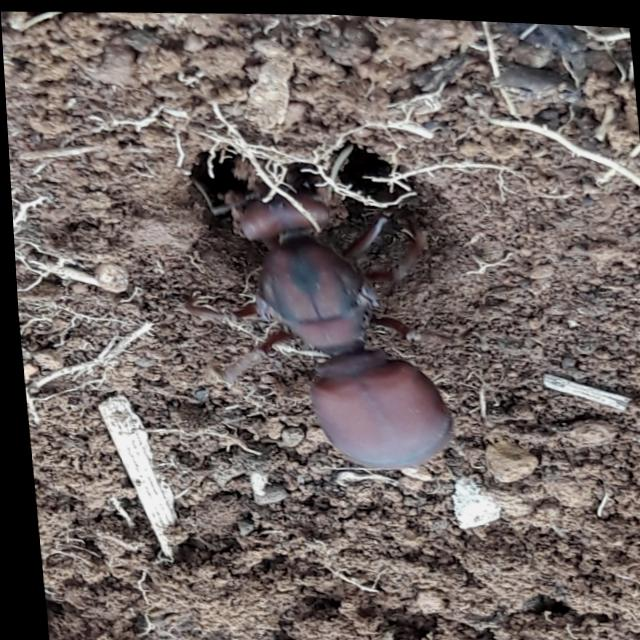Alive-Female-Dealate: (165, 136, 496, 476)
